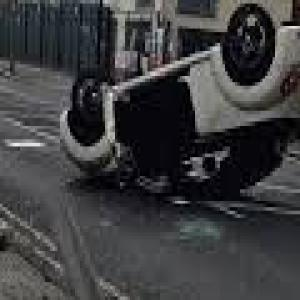critical: (57, 0, 300, 203)
